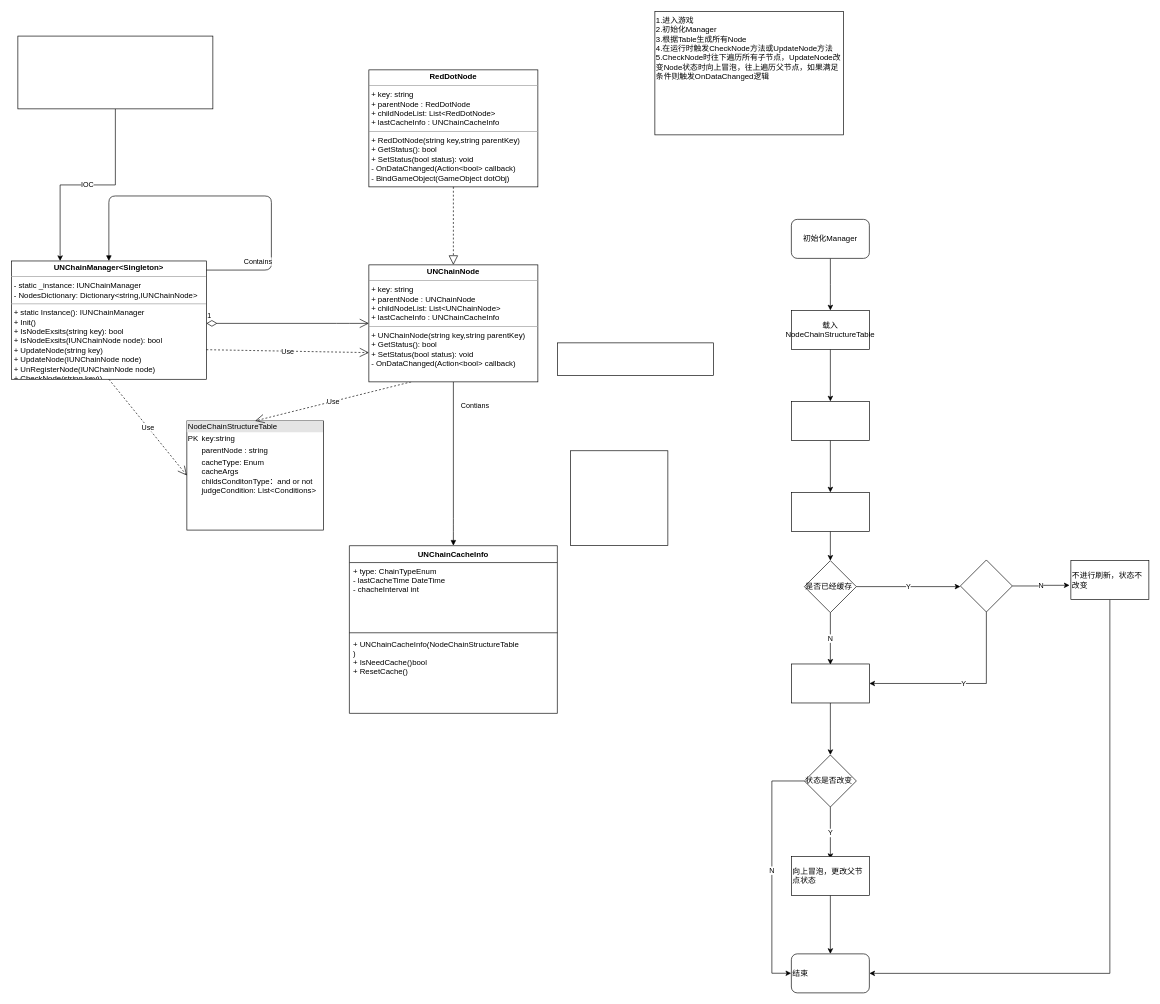
The diagram is 1160 pixels wide and 1004 high, and some of its shapes have lost their labels. Here are the shapes that lost their labels. From the top down, the box of each, then its label:
(17, 35, 213, 109): RedDotManager<Singleton>
(557, 342, 713, 375): 1.似乎只有叶子节点才需要判断逻辑 2.父节点可能需要确认各节点之间的与或非逻辑 3.Bind的Object在缓存池中的情况
(791, 401, 869, 440): 生成结构树
(570, 450, 668, 546): 缓存机制为了提高效率 避免无意义的重复判断， 主要类型有： 即时判断，每次check不进行缓存判断； 延时判断，上次Check之后一定事件后再判断；
(791, 492, 869, 531): 打开页面，触发 节点Check事件
(960, 559, 1012, 612): 是否需要刷新缓存
(791, 663, 869, 703): 判断子节点是否存在，执行所有存在子节点Check事件 更新所有节点缓存
